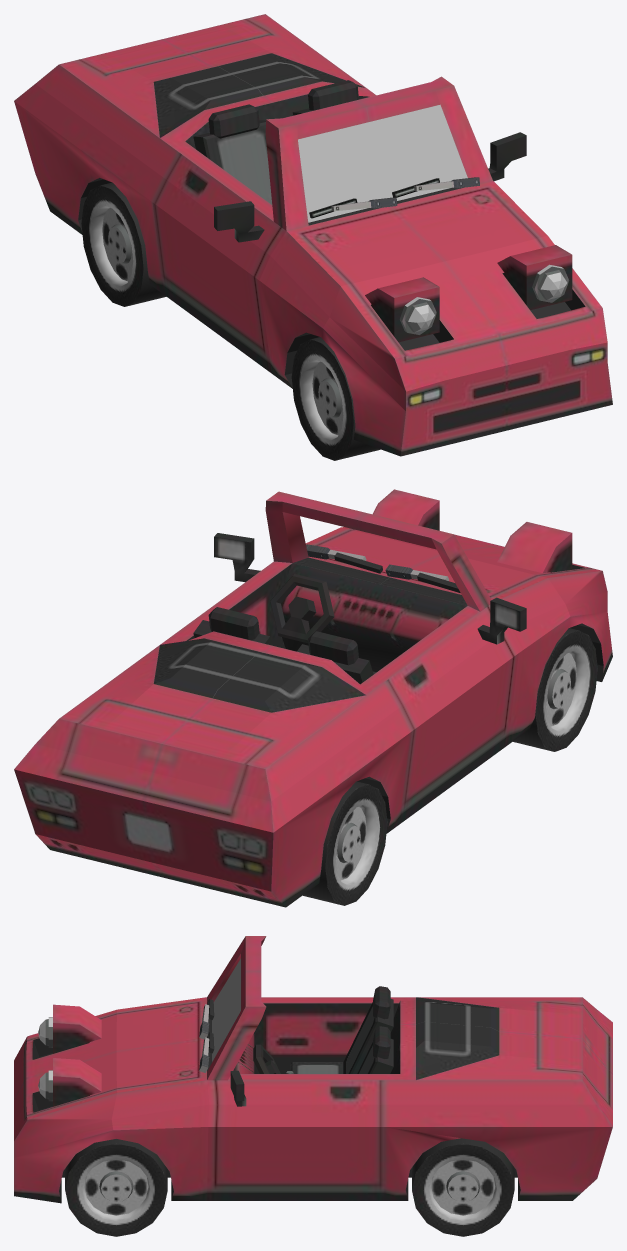
Rendered from tuka.glb.
The picture shows the model from 3 angles, top to bottom: view 1: azimuth 30°, elevation 25°; view 2: azimuth 150°, elevation 25°; view 3: azimuth 270°, elevation 25°; orthographic projection. The views are drawn at different scales.
Parts seen in each view (by area): view 1: Convertible1, Glass1, Wheel_a3, Wheel_a2, Spotlight2, Spotlight, Windshield_wipers_c3, Windshield_wipers_c2; view 2: Convertible1, Wheel_a3, Wheel_a2, Spotlight, Helm, Spotlight2, Windshield_wipers_c2, Windshield_wipers_c3; view 3: Convertible1, Wheel_a4, Wheel_a5, Spotlight, Spotlight2, Glass1, Helm.
Boxes of the visible parts, box(x1,y1,x2,y2) form: Convertible1: box(14, 14, 612, 456); Glass1: box(298, 104, 467, 222); Wheel_a3: box(81, 182, 166, 306); Wheel_a2: box(291, 337, 380, 460); Spotlight2: box(497, 245, 572, 310); Spotlight: box(365, 277, 439, 342); Windshield_wipers_c3: box(309, 197, 397, 218); Windshield_wipers_c2: box(392, 177, 479, 197); Convertible1: box(14, 491, 612, 907); Wheel_a3: box(303, 781, 387, 905); Wheel_a2: box(513, 628, 597, 751); Spotlight: box(497, 522, 572, 573); Helm: box(270, 574, 334, 643); Spotlight2: box(373, 489, 439, 530); Windshield_wipers_c2: box(306, 544, 382, 573); Windshield_wipers_c3: box(385, 564, 460, 592); Convertible1: box(14, 936, 612, 1203); Wheel_a4: box(412, 1138, 514, 1236); Wheel_a5: box(65, 1139, 167, 1236); Spotlight: box(38, 1004, 101, 1053); Spotlight2: box(38, 1058, 101, 1106); Glass1: box(212, 958, 240, 1061); Helm: box(253, 1044, 280, 1073).
Size of the model in its own units: 93.44 by 75.71 by 190.
2 materials, 1 textured.
